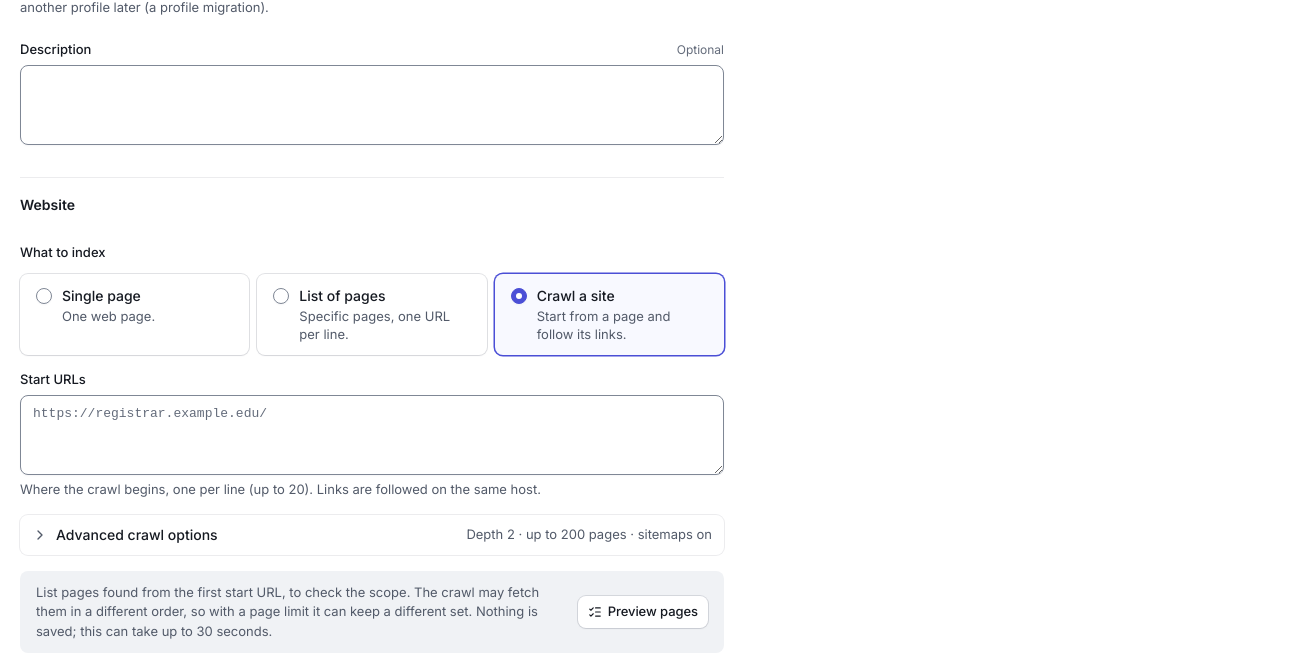
Test: creating a web source › names the team's pending request instead of offering another (P-15)
(page scrolled)
Click the radio button named "Single page" next to "Single page" at (44, 296), box [36,288,52,304]
(page scrolled)
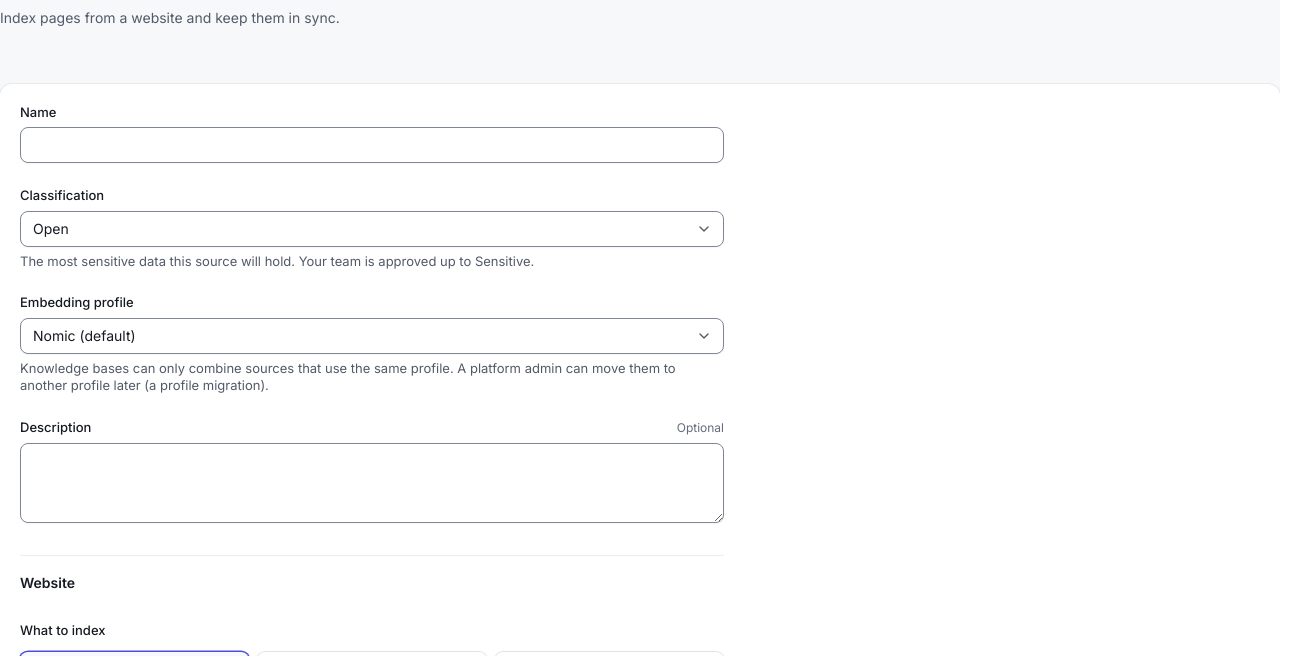
Type "Example" into the field labelled "Name" at (372, 145), box [20,127,724,163]
(page scrolled)
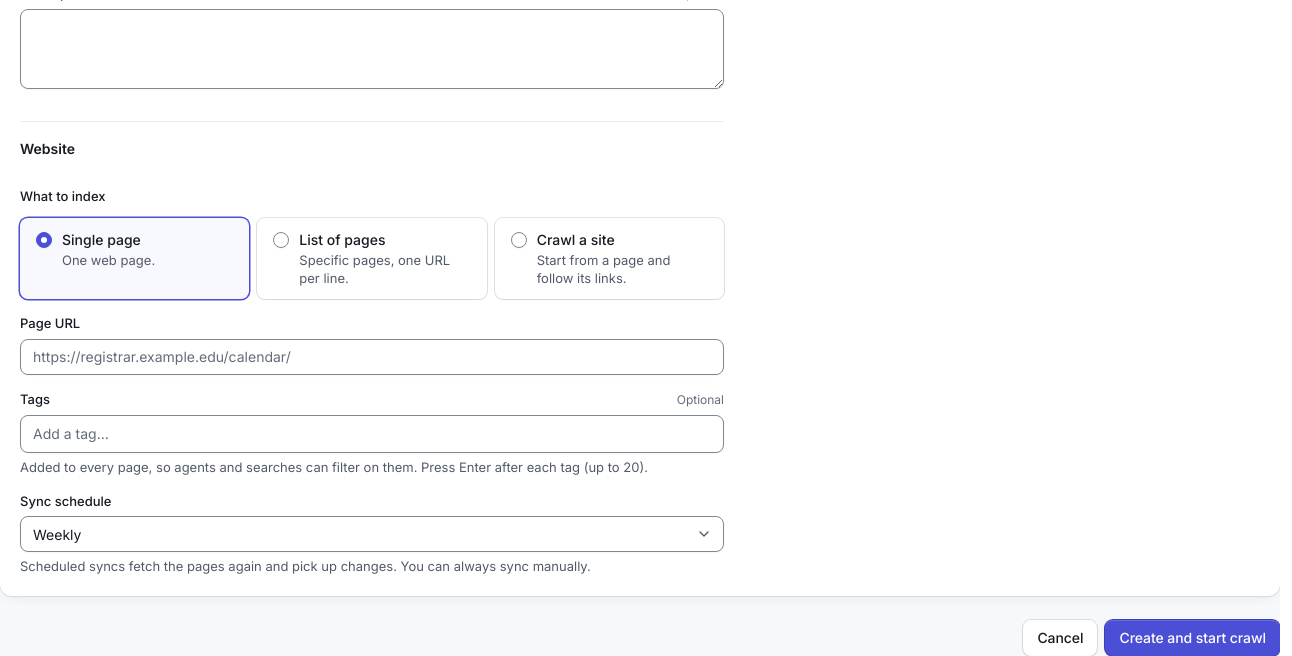
Type "https://www.example.org/about" into the field labelled "Page URL" at (372, 357), box [20,339,724,375]
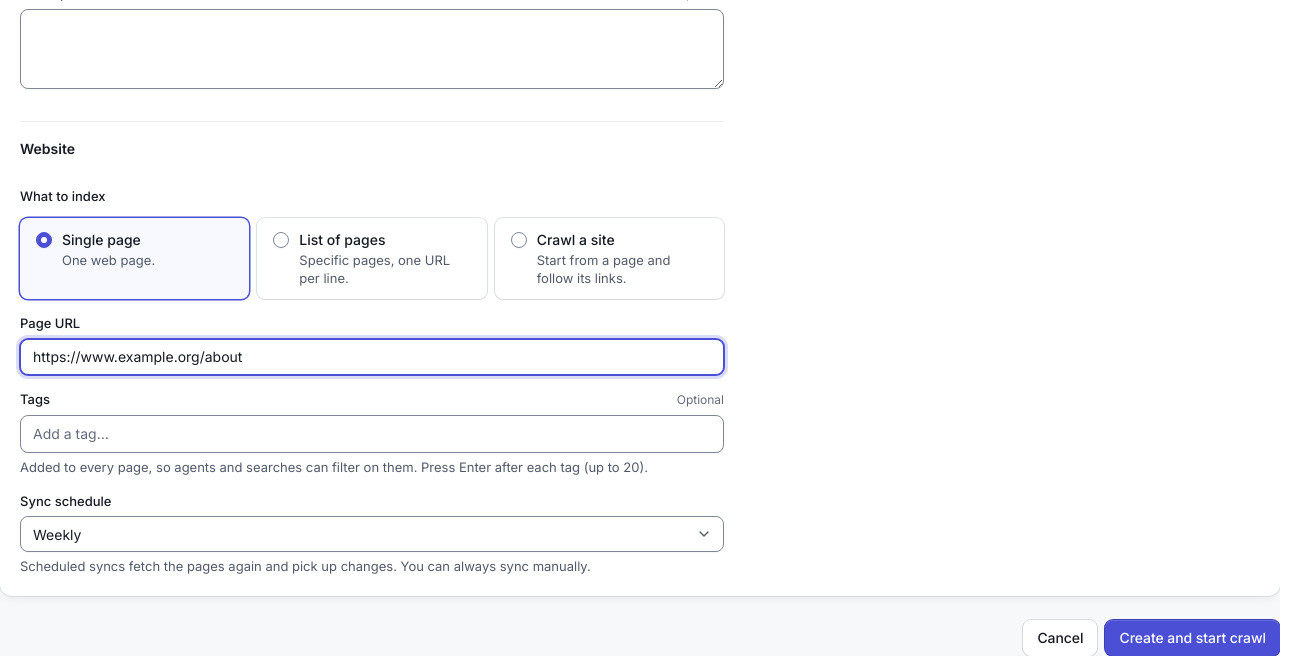
Click the button "Create and start crawl" at (1193, 638), box [1106,620,1280,655]
(page scrolled)
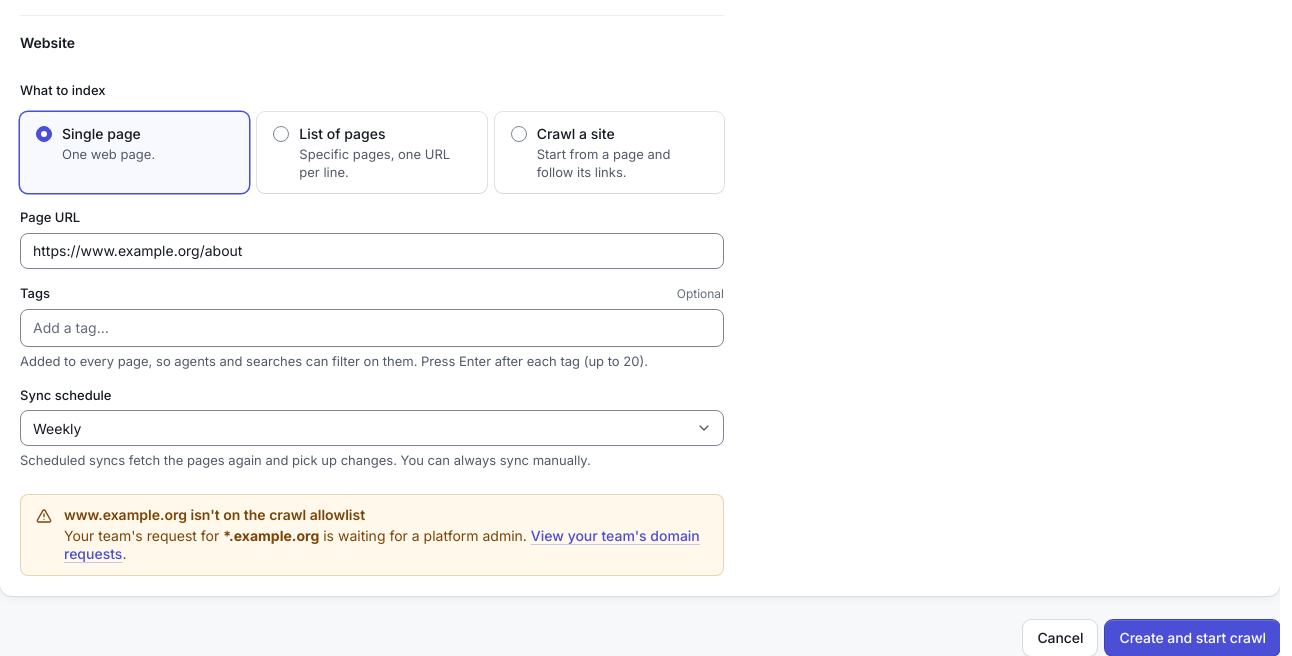
Check: the message shows "Your team's request for *.example.org is waiting for a platform admin.", box [20,494,724,576]
